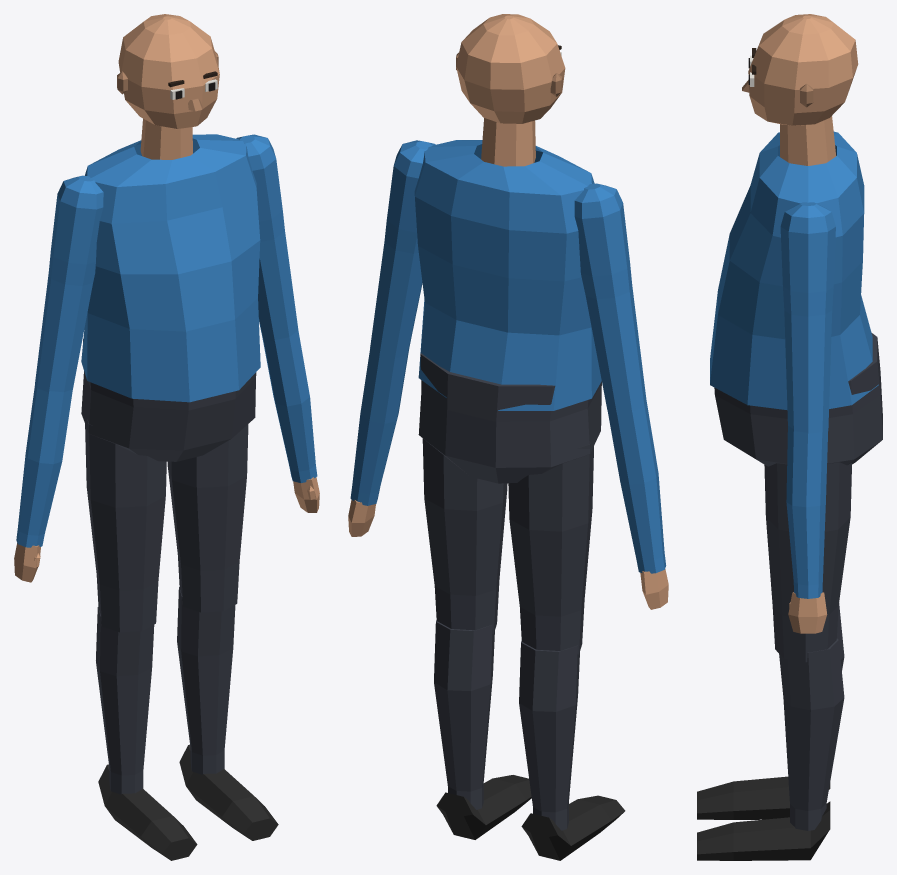
File: adulte_h_rond.glb
3 views of the same model, side by side, from view 1: azimuth 30°, elevation 25°; view 2: azimuth 150°, elevation 25°; view 3: azimuth 270°, elevation 25° (orthographic). The views are drawn at different scales.
Visible parts, largest first — view 1: torse, jambe_d, tibia_d, tibia_g, tete, jambe_g, bras_d, bassin, avant_bras_d, bras_g, avant_bras_g; view 2: torse, bassin, jambe_d, tibia_d, tibia_g, tete, jambe_g, bras_d, bras_g, avant_bras_d, avant_bras_g; view 3: torse, tibia_g, tete, bras_g, jambe_g, bassin, avant_bras_g, tibia_d.
Boxes of the visible parts, box(x1,y1,x2,y2) form: torse: box(81, 134, 260, 402); jambe_d: box(85, 419, 166, 632); tibia_d: box(96, 607, 197, 860); tibia_g: box(177, 587, 278, 840); tete: box(117, 14, 219, 159); jambe_g: box(167, 424, 248, 612); bras_d: box(35, 175, 103, 392); bassin: box(81, 339, 256, 461); avant_bras_d: box(14, 384, 72, 582); bras_g: box(236, 134, 298, 341); avant_bras_g: box(262, 330, 319, 512); torse: box(414, 140, 601, 410); bassin: box(418, 353, 601, 483); jambe_d: box(508, 443, 593, 654); tibia_d: box(519, 641, 625, 860); tibia_g: box(434, 620, 531, 839); tete: box(456, 14, 565, 166); jambe_g: box(422, 438, 507, 633); bras_d: box(574, 183, 646, 413); bras_g: box(370, 140, 435, 358); avant_bras_d: box(607, 401, 668, 609); avant_bras_g: box(348, 348, 409, 536); torse: box(710, 131, 878, 409); tibia_g: box(697, 638, 844, 860); tete: box(742, 14, 858, 165); bras_g: box(780, 202, 835, 433); jambe_g: box(764, 462, 851, 662); bassin: box(714, 333, 882, 466); avant_bras_g: box(786, 426, 828, 633); tibia_d: box(697, 603, 844, 819).
Bounding box in the file's own units: 0.6849 × 1.74 × 0.3577.
1 material, 1 textured.
